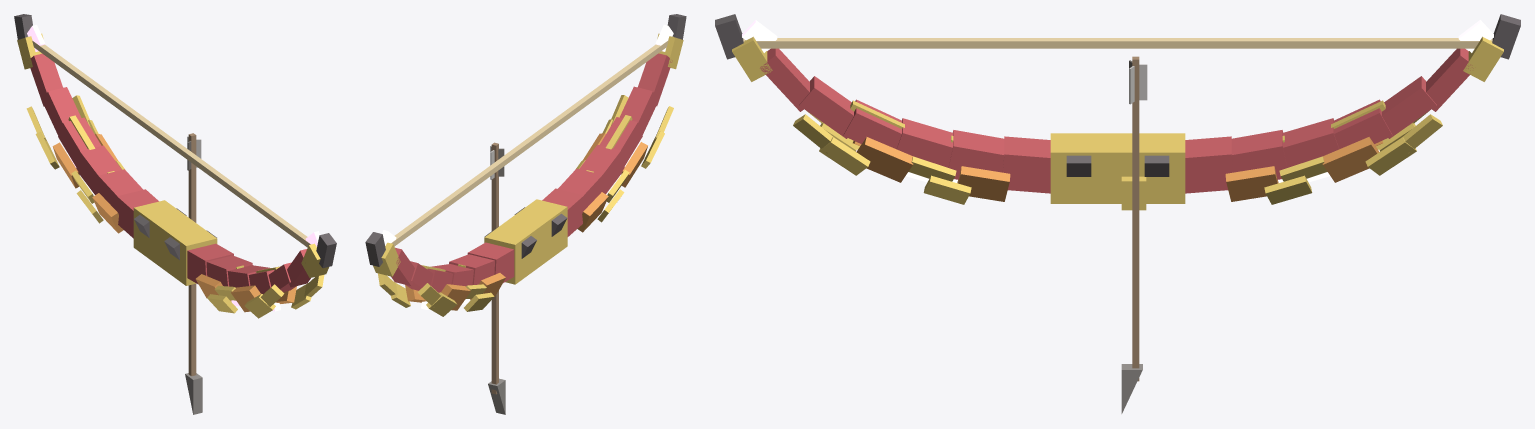
The model's file is art_phoenix_flatbow.fbx.
3 views of the same model, side by side, from view 1: azimuth 30°, elevation 25°; view 2: azimuth 150°, elevation 25°; view 3: azimuth 270°, elevation 25° (orthographic). The views are drawn at different scales.
Visible parts, largest first — view 1: Handle, BowString, ArrowShaft, CoreU_3, CoreU_5, CoreU_2, CoreU_6, CoreU_1, CoreU_4, CoreL_1, CoreL_2, ArrowHead (+15 smaller); view 2: Handle, BowString, ArrowShaft, CoreL_3, CoreL_2, CoreL_5, CoreL_1, CoreL_6, CoreU_1, CoreL_4, CoreU_2, CoreU_6 (+15 smaller); view 3: BowString, Handle, CoreL_1, CoreU_1, ArrowShaft, CoreL_2, CoreU_2, CoreL_3, CoreU_3, CoreL_5, CoreU_5, CoreL_6 (+15 smaller).
Boxes of the visible parts, bbox=[...] form: Handle: bbox=[133, 200, 217, 285]; BowString: bbox=[27, 36, 310, 247]; ArrowShaft: bbox=[188, 133, 196, 376]; CoreU_3: bbox=[76, 145, 121, 194]; CoreU_5: bbox=[42, 87, 81, 135]; CoreU_2: bbox=[96, 169, 143, 210]; CoreU_6: bbox=[30, 53, 63, 106]; CoreU_1: bbox=[116, 189, 158, 238]; CoreU_4: bbox=[58, 117, 101, 166]; CoreL_1: bbox=[187, 243, 233, 284]; CoreL_2: bbox=[206, 255, 252, 286]; ArrowHead: bbox=[185, 373, 202, 414]; Handle: bbox=[484, 199, 567, 284]; BowString: bbox=[391, 36, 673, 246]; ArrowShaft: bbox=[491, 142, 498, 394]; CoreL_3: bbox=[579, 145, 624, 193]; CoreL_2: bbox=[558, 168, 604, 209]; CoreL_5: bbox=[619, 86, 658, 134]; CoreL_1: bbox=[542, 188, 584, 236]; CoreL_6: bbox=[637, 53, 672, 106]; CoreU_1: bbox=[467, 242, 514, 282]; CoreL_4: bbox=[599, 117, 642, 166]; CoreU_2: bbox=[449, 254, 494, 284]; CoreU_6: bbox=[391, 247, 414, 285]; BowString: bbox=[743, 38, 1492, 48]; Handle: bbox=[1050, 133, 1185, 203]; CoreL_1: bbox=[1002, 136, 1050, 193]; CoreU_1: bbox=[1185, 136, 1233, 193]; ArrowShaft: bbox=[1132, 56, 1139, 381]; CoreL_2: bbox=[948, 130, 1004, 179]; CoreU_2: bbox=[1231, 130, 1287, 179]; CoreL_3: bbox=[896, 118, 952, 167]; CoreU_3: bbox=[1283, 118, 1339, 167]; CoreL_5: bbox=[799, 76, 853, 138]; CoreU_5: bbox=[1382, 76, 1436, 138]; CoreL_6: bbox=[760, 48, 809, 111].
Bounding box in the file's own units: 0.495 × 2.36 × 4.54.
